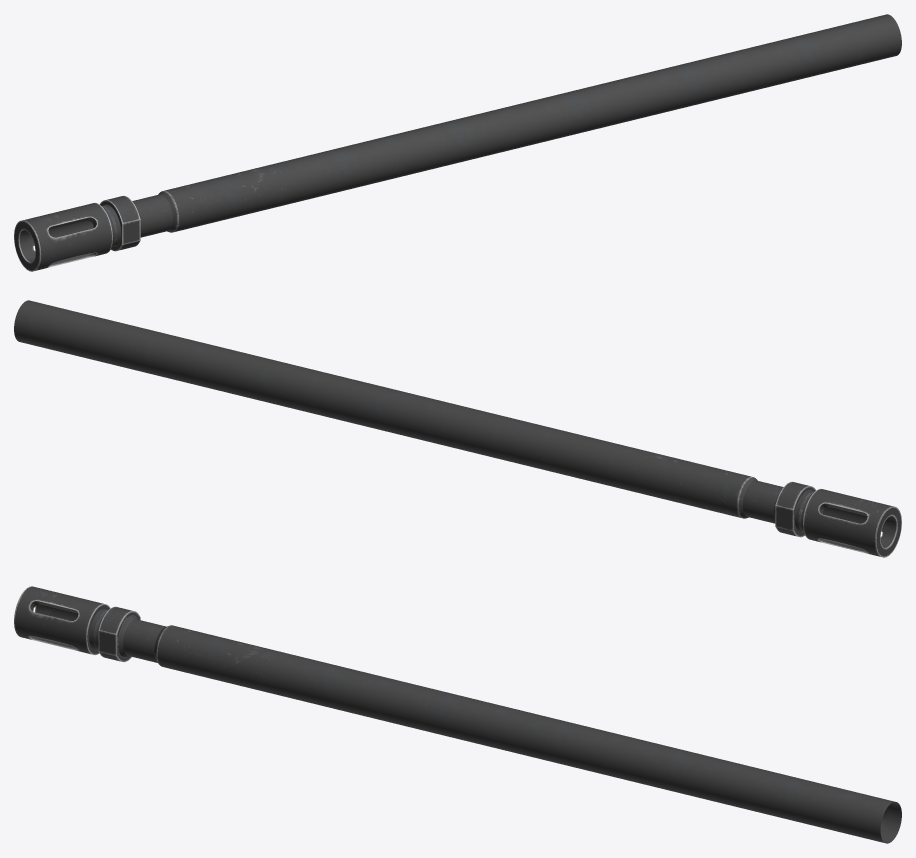
File: long_barrel.glb
3 views of the same model, one above another, from view 1: azimuth 30°, elevation 25°; view 2: azimuth 150°, elevation 25°; view 3: azimuth 330°, elevation 25° (orthographic).
Visible parts, largest first — view 1: Barrel-12_low; view 2: Barrel-12_low; view 3: Barrel-12_low.
Part boxes in pixels (bbox=[...]): Barrel-12_low: bbox=[14, 14, 901, 271]; Barrel-12_low: bbox=[14, 300, 901, 557]; Barrel-12_low: bbox=[14, 586, 901, 843].
Size of the model in its own units: 2.26 by 0.1185 by 0.1184.
Materials: 1 (1 with a texture image).
